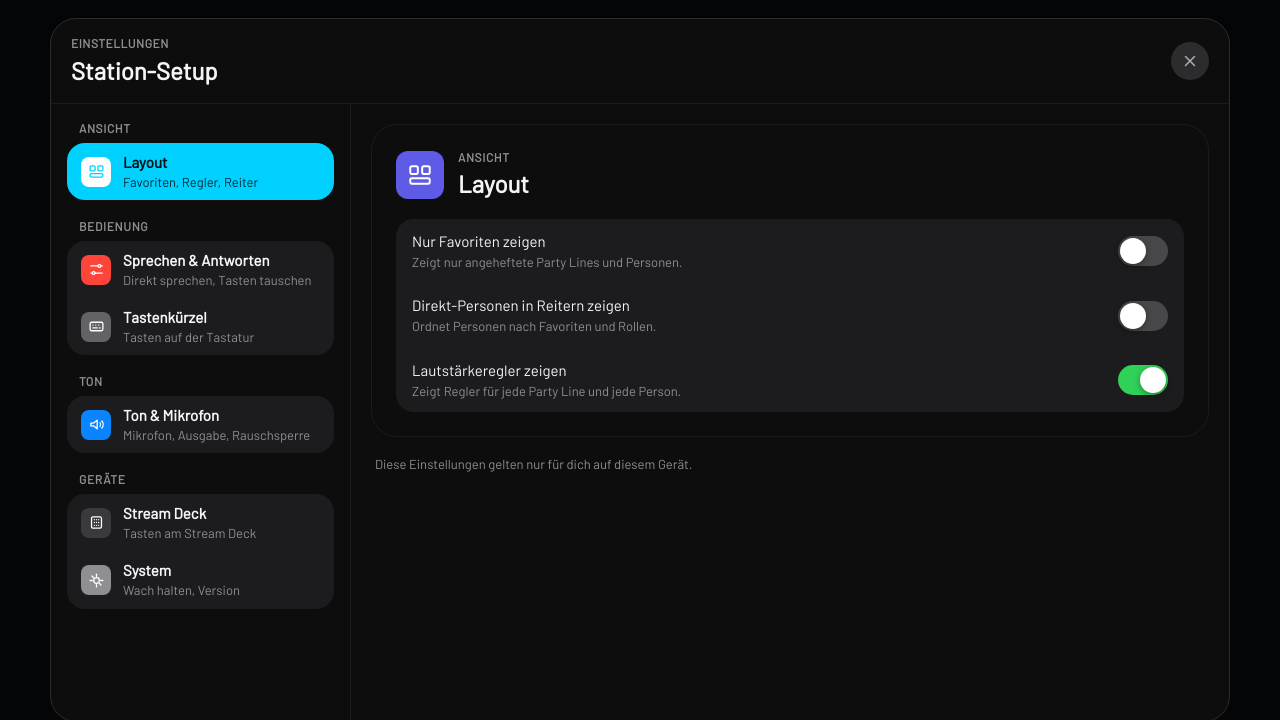
StationIntercomView › pauses sound metering and gate controls in low-power mode
Step 1. Click the button "Ton & Mikrofon Mikrofon, Ausgabe, Rauschsperre" → (200, 425), box [67,396,334,454]
(page scrolled)
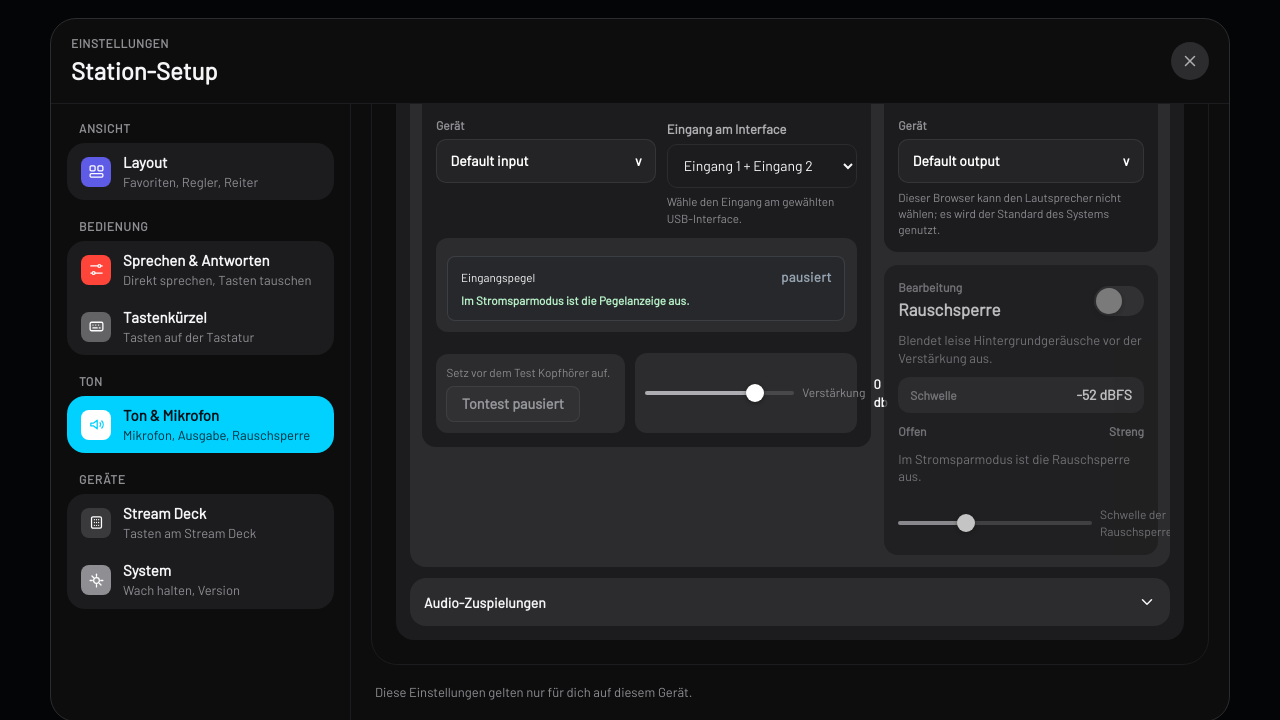
Check: the text "Im Stromsparmodus ist die Pegelanzeige aus." is shown, box [461,293,689,307]
Check: the button "Tontest pausiert" is disabled, box [446,386,580,422]
Check: the checkbox named "Rauschsperre" is disabled, box [1094,286,1144,316]
